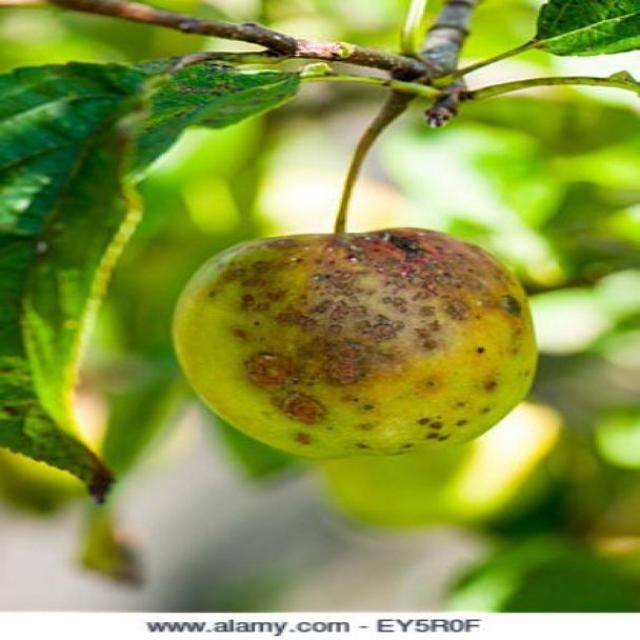SCAB: (156, 199, 578, 467)
